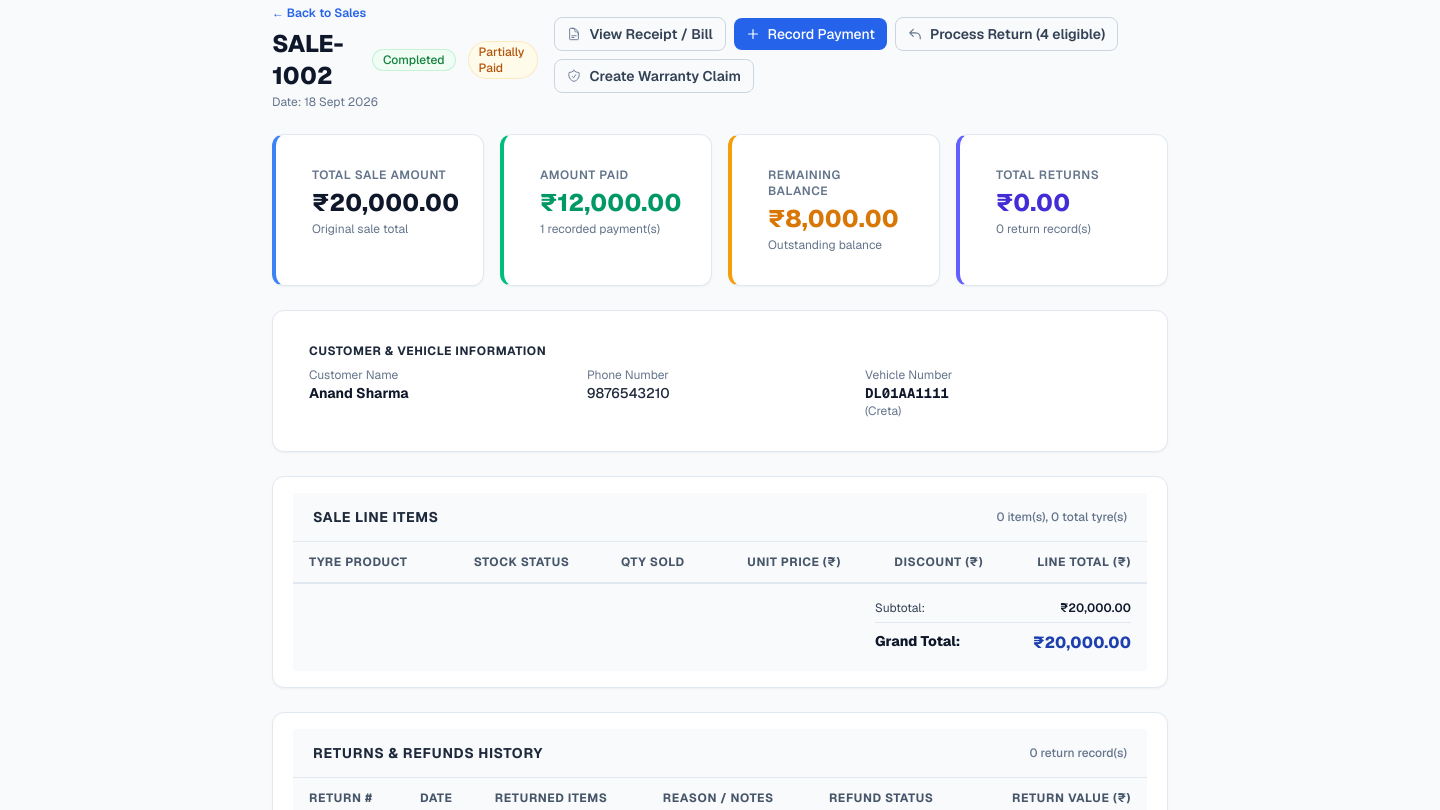
Scenario: SaleDetailPage UI Component › renders completed sale with payment summary KPIs and opens Record Payment modal
Check: the heading "SALE-1002" is shown, box x1=272 y1=28 x2=344 y2=91
Check: the text "Total Sale Amount" is shown, box x1=312 y1=167 x2=447 y2=183
# Verify Record Payment button exists for partially paid sale
Click the button "Record Payment": x=810, y=34 x1=734 y1=18 x2=887 y2=50
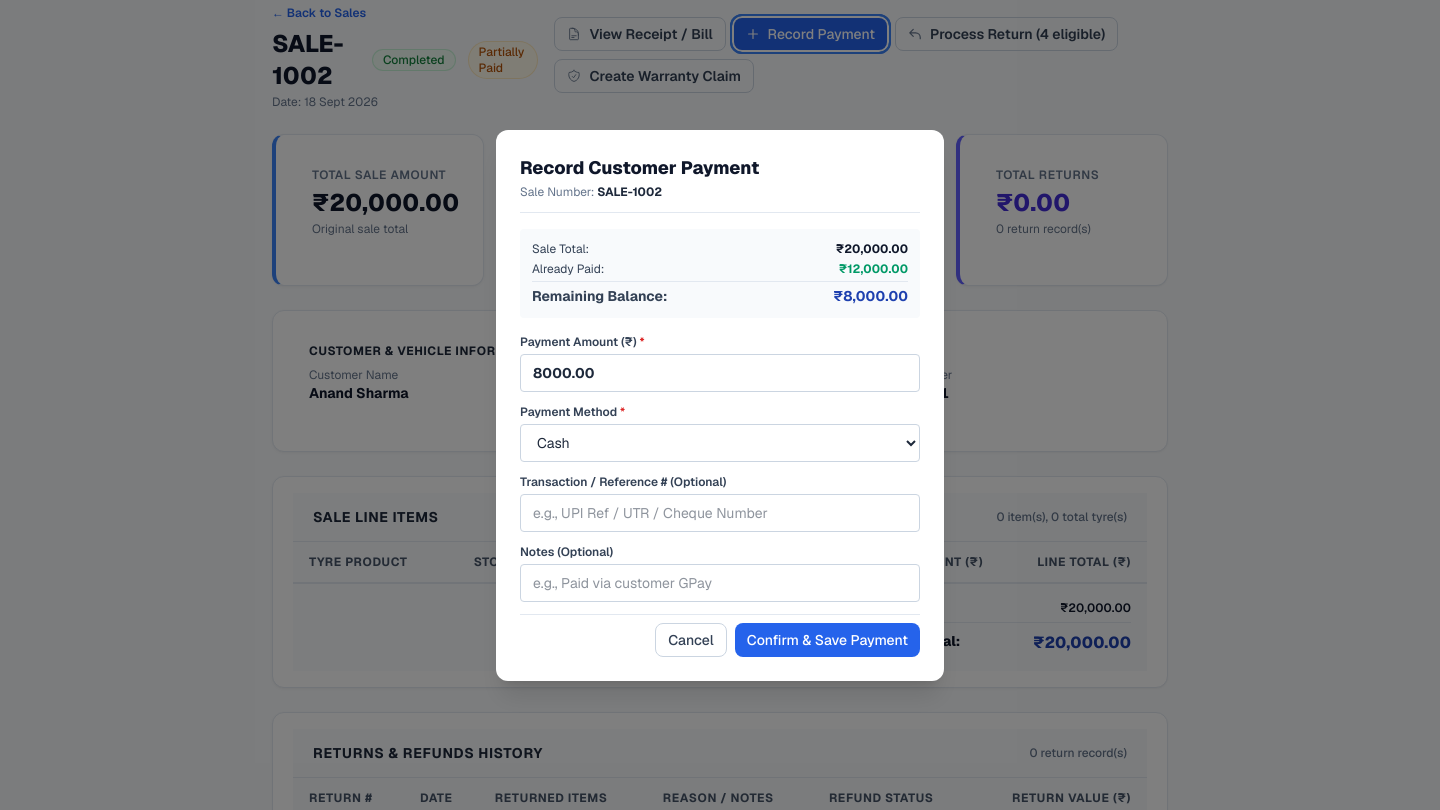
Check: the heading "Record Customer Payment" is shown, box x1=520 y1=156 x2=759 y2=178
Check: the button "Confirm & Save Payment" is shown, box x1=735 y1=622 x2=920 y2=656
# Close modal via Cancel
Click the button "Cancel": x=691, y=640 x1=655 y1=622 x2=727 y2=656
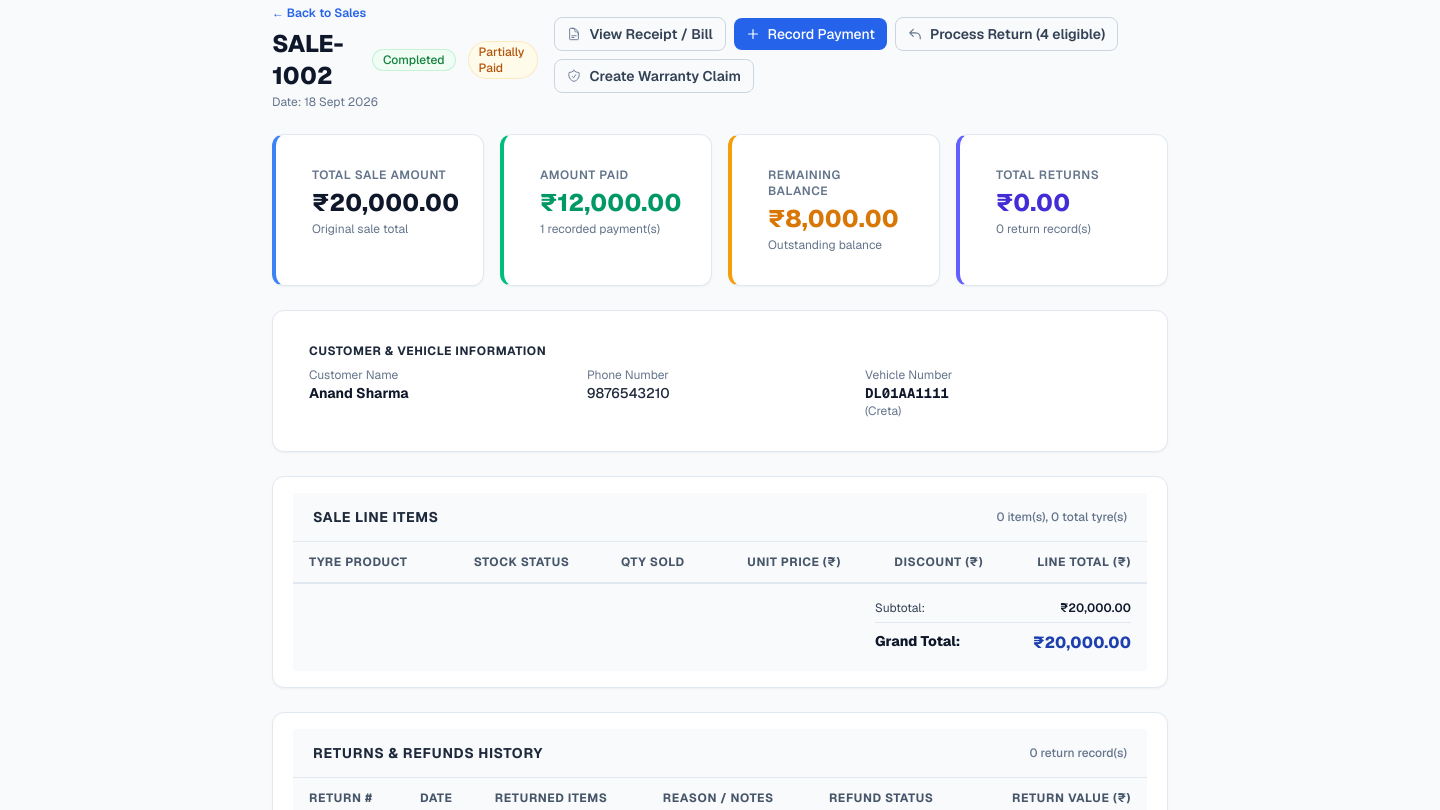
Check: the heading "Record Customer Payment" is gone
